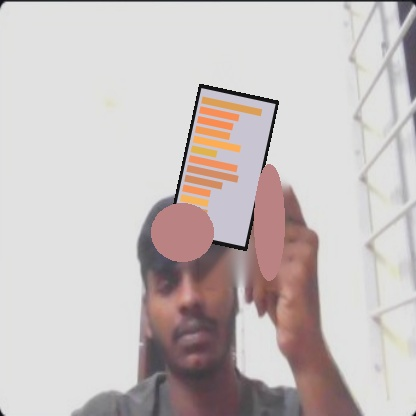cell_phone: (167, 84, 279, 251)
